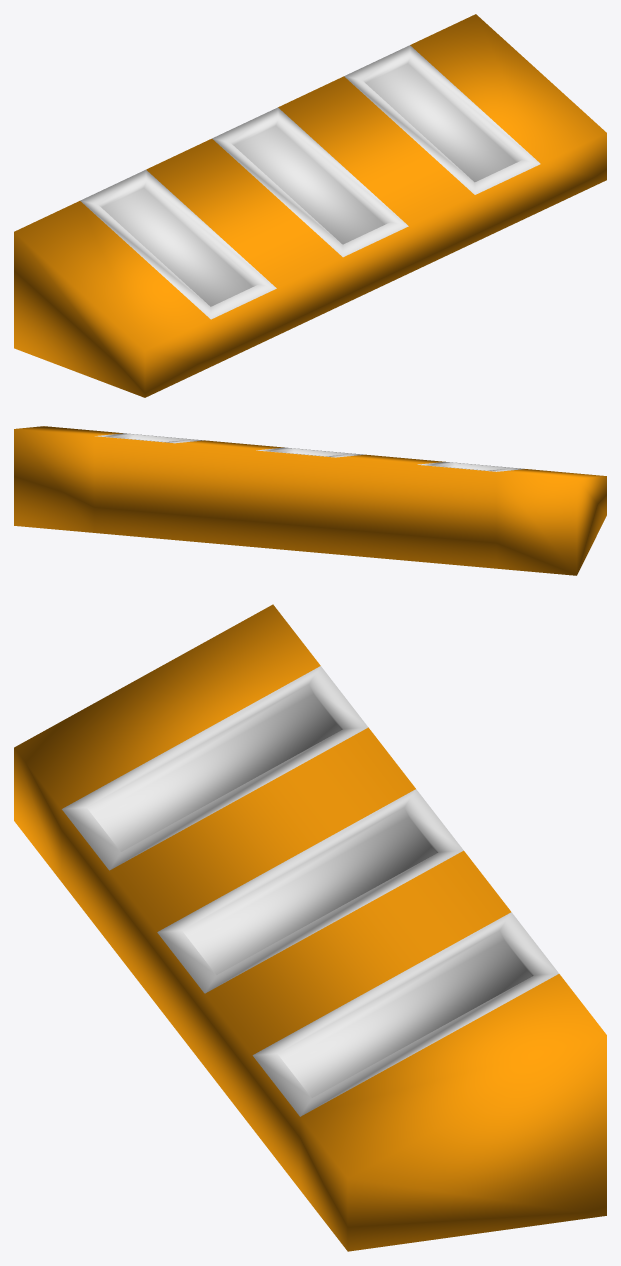
The model's file is canopy_01.fbx.
The picture shows the model from 3 angles, top to bottom: view 1: azimuth 30°, elevation 25°; view 2: azimuth 150°, elevation 25°; view 3: azimuth 270°, elevation 25°; orthographic projection. The views are drawn at different scales.
Parts seen in each view (by area): view 1: CAFEROCHELLECanopy_LOD0; view 2: CAFEROCHELLECanopy_LOD0; view 3: CAFEROCHELLECanopy_LOD0.
Part boxes in pixels (bbox=[...]): CAFEROCHELLECanopy_LOD0: bbox=[14, 14, 606, 397]; CAFEROCHELLECanopy_LOD0: bbox=[14, 426, 606, 575]; CAFEROCHELLECanopy_LOD0: bbox=[14, 604, 606, 1251].
Size of what is drawn, in the model's own units: 810 by 146 by 435.
